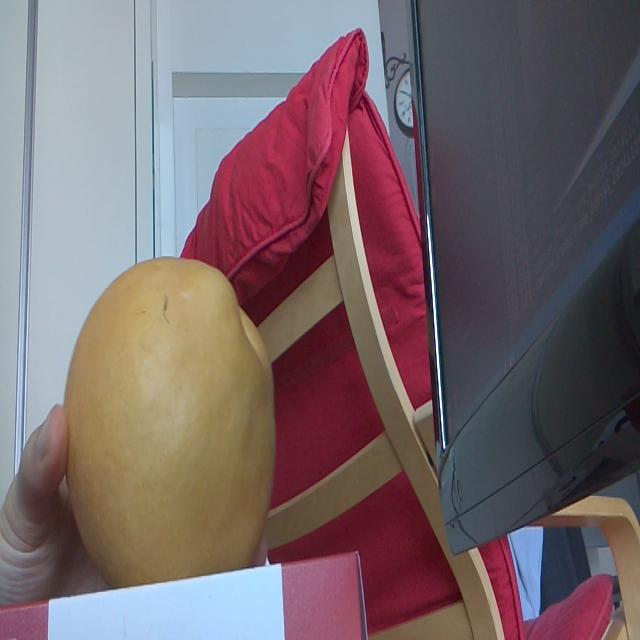pear: (62, 260, 276, 567)
